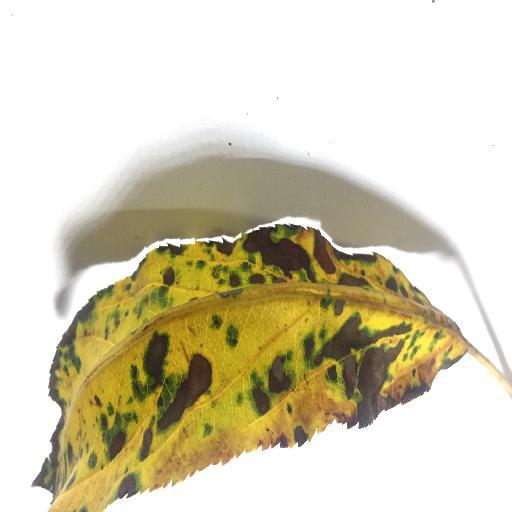Brown_Spot: (108, 358, 208, 457), (307, 322, 410, 414), (240, 229, 328, 279), (246, 361, 303, 403), (116, 462, 141, 495), (157, 269, 179, 286)
